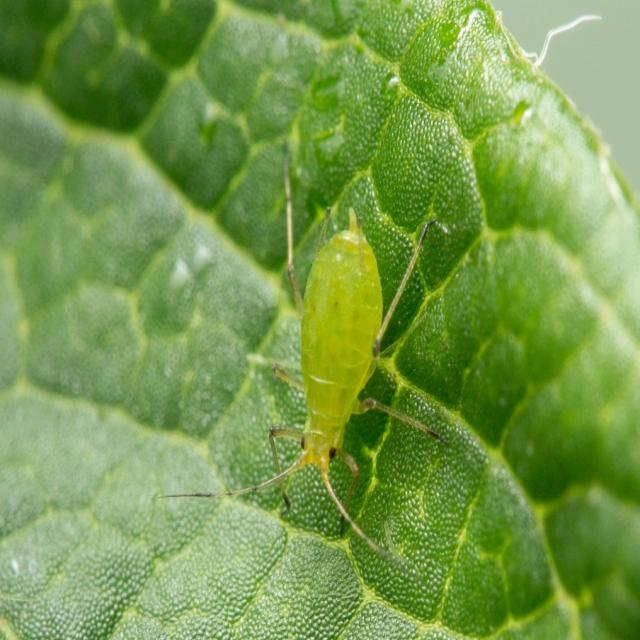Aphid-Grown-: (224, 119, 445, 535)
